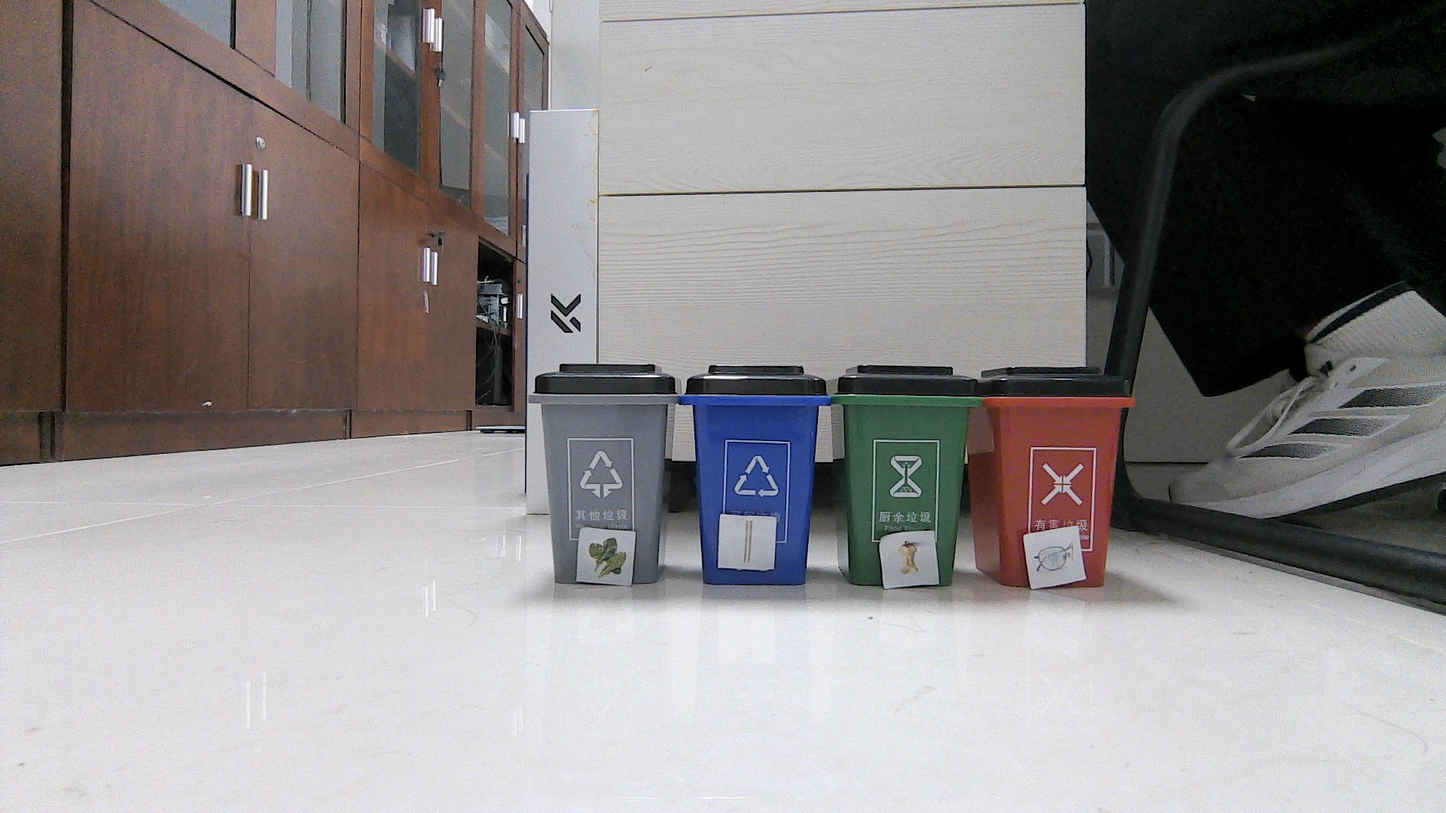food_trash: (583, 534, 631, 580), (886, 535, 930, 581)
other_trash: (1028, 532, 1077, 583), (723, 517, 772, 566)
